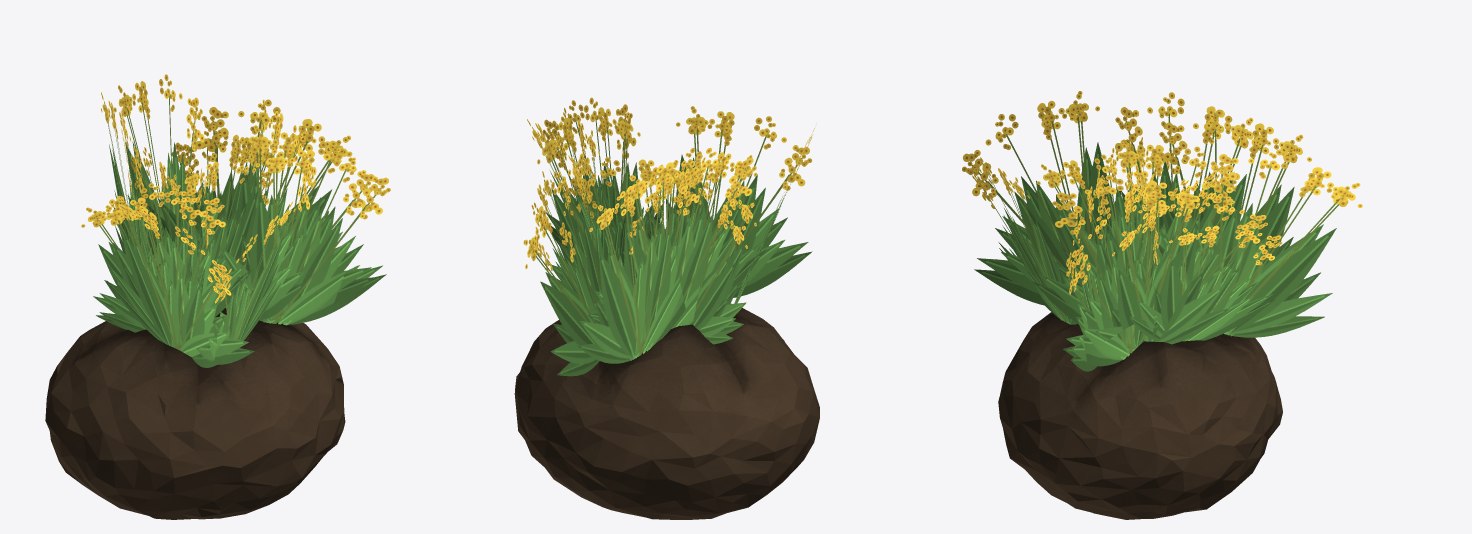
Rendered from cenario_moita_erva.glb.
The picture shows the model from 3 angles, left to right: view 1: azimuth 30°, elevation 25°; view 2: azimuth 150°, elevation 25°; view 3: azimuth 270°, elevation 25°; orthographic projection.
Parts seen in each view (by area): view 1: erva_folhas, cenario_moita_erva_tronco; view 2: erva_folhas, cenario_moita_erva_tronco; view 3: erva_folhas, cenario_moita_erva_tronco.
Boxes of the visible parts, box(x1,y1,x2,y2) form: erva_folhas: box(81, 74, 390, 367); cenario_moita_erva_tronco: box(45, 308, 345, 519); erva_folhas: box(523, 97, 816, 376); cenario_moita_erva_tronco: box(514, 303, 819, 519); erva_folhas: box(962, 91, 1362, 371); cenario_moita_erva_tronco: box(998, 312, 1282, 519).
Size of the model in its own units: 1.51 by 1.76 by 1.99.
2 materials, 2 textured.
